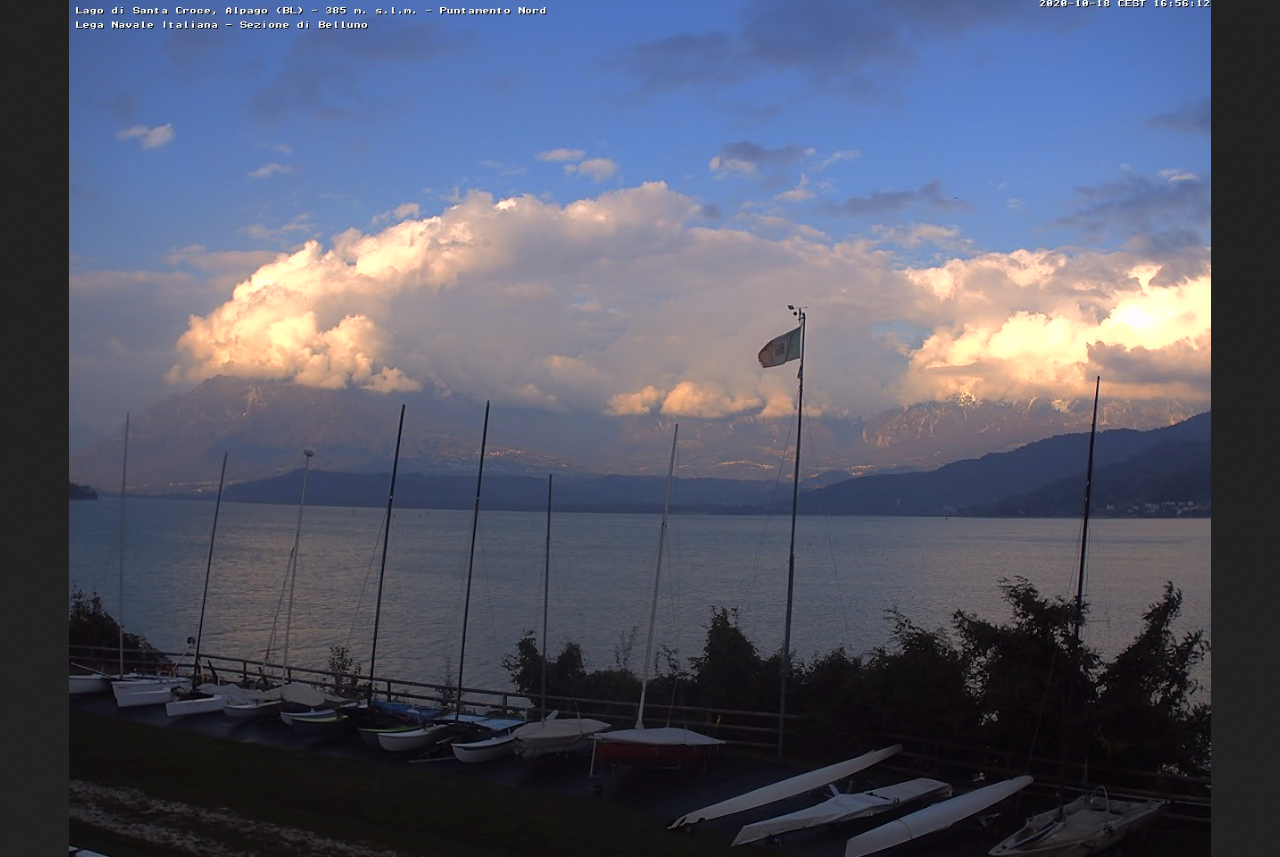maybe: (752, 316, 811, 373)
